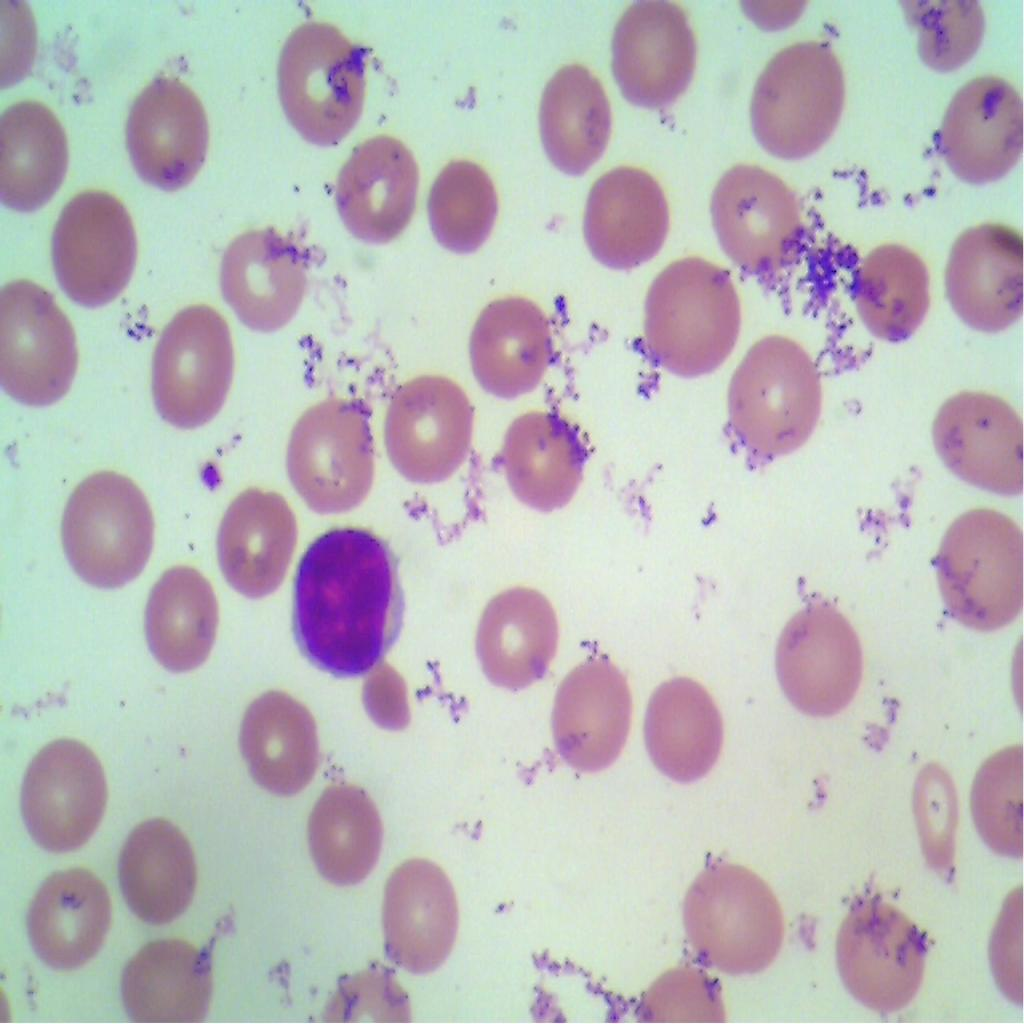Eritrosit: (679, 854, 801, 992), (715, 314, 824, 458), (734, 32, 848, 165), (58, 456, 155, 600), (923, 68, 1023, 202), (924, 500, 1023, 634), (148, 290, 239, 434), (370, 841, 466, 977), (15, 726, 114, 852), (830, 891, 936, 1008), (926, 370, 1023, 497), (774, 596, 868, 726), (269, 20, 371, 139), (704, 159, 806, 275), (468, 569, 564, 692), (381, 370, 478, 489), (46, 186, 136, 314), (642, 264, 743, 378), (228, 682, 326, 799), (636, 682, 734, 794), (16, 859, 111, 974), (288, 384, 374, 511), (295, 767, 386, 887), (116, 818, 206, 938), (491, 404, 588, 515), (846, 234, 940, 348), (611, 0, 701, 118), (542, 654, 630, 772), (122, 74, 208, 194), (223, 215, 306, 338), (458, 290, 558, 392), (136, 555, 219, 677), (0, 282, 79, 410), (209, 474, 293, 594), (578, 171, 676, 271), (340, 132, 426, 242), (534, 58, 620, 168), (419, 150, 504, 257), (941, 222, 1023, 332), (0, 98, 75, 218), (118, 932, 213, 1023), (352, 657, 434, 741), (903, 762, 968, 865)
Limfosit: (279, 517, 411, 682)
Platelet: (198, 454, 228, 494)
